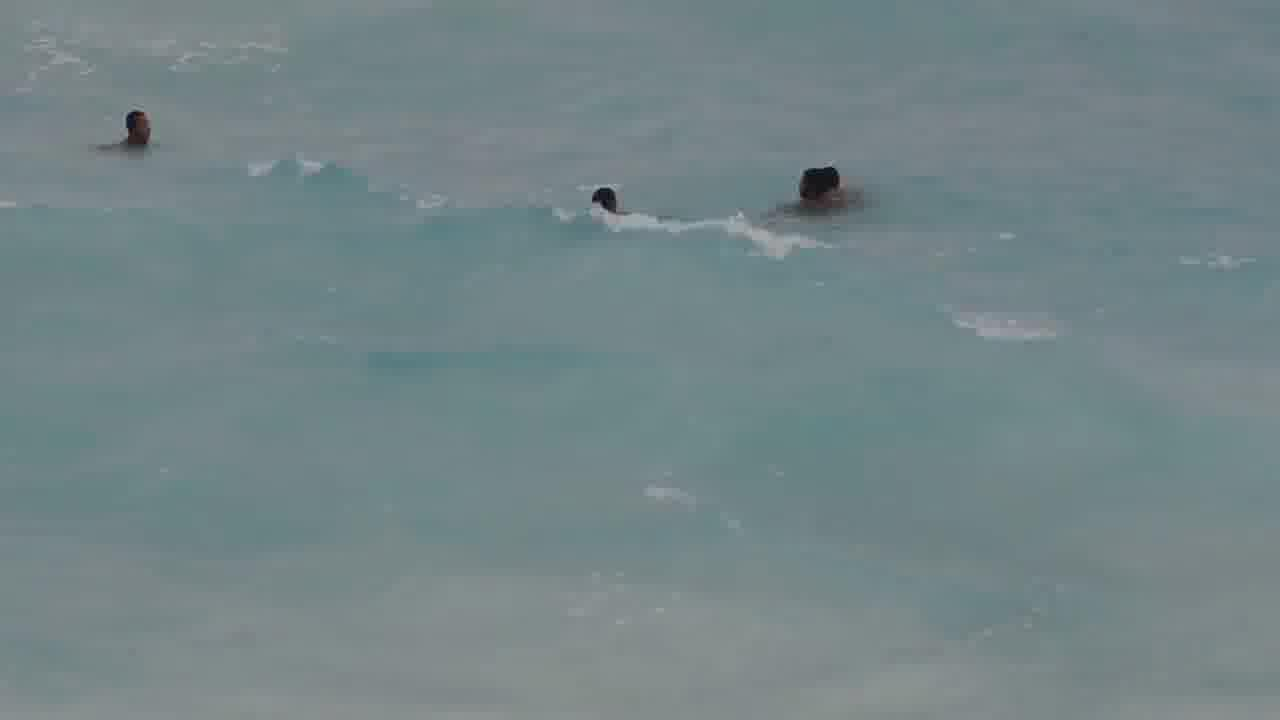human: (779, 164, 858, 220), (100, 101, 158, 158), (581, 180, 627, 230)
